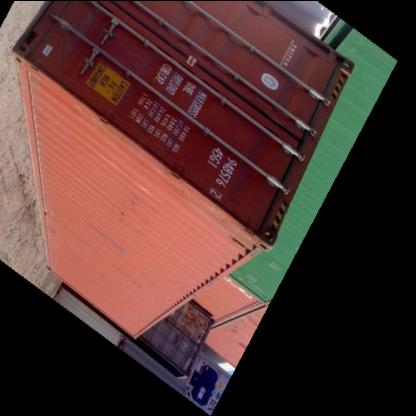Damage: (81, 223, 132, 252), (108, 259, 141, 291), (116, 195, 146, 223)
